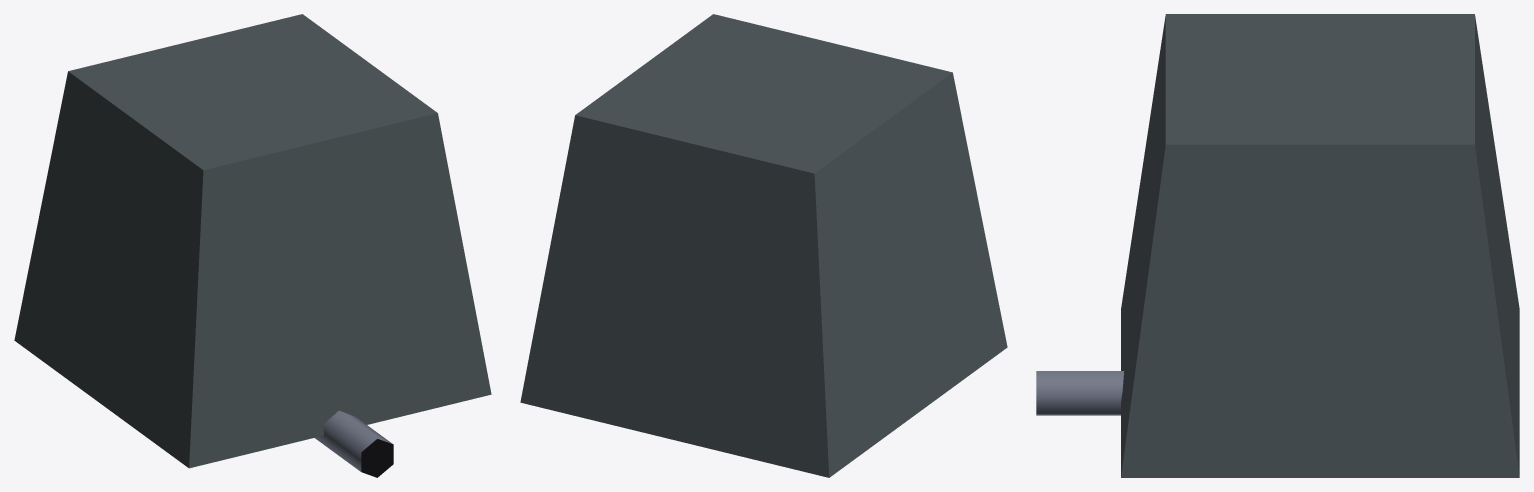
Rendered from turret.glb.
The picture shows the model from 3 angles, left to right: view 1: azimuth 30°, elevation 25°; view 2: azimuth 150°, elevation 25°; view 3: azimuth 270°, elevation 25°; orthographic projection. The views are drawn at different scales.
Parts seen in each view (by area): view 1: TurretBase, TurretBarrels; view 2: TurretBase; view 3: TurretBase, TurretBarrels.
Boxes of the visible parts, x1,y1,x2,y2 form: TurretBase: (14, 14, 491, 468); TurretBarrels: (315, 410, 393, 477); TurretBase: (520, 14, 1007, 477); TurretBase: (1121, 14, 1519, 477); TurretBarrels: (1036, 371, 1124, 415).
Bounding box in the file's own units: 37.05 × 34.49 × 44.92.
